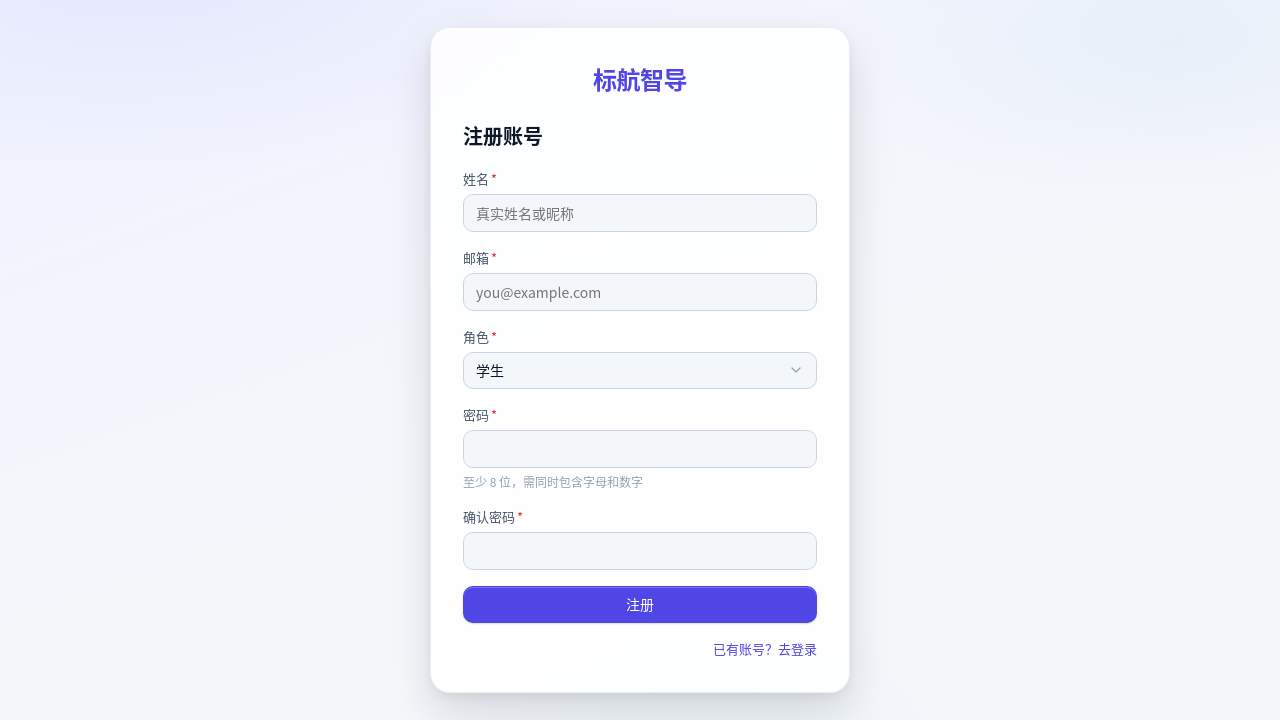
Test: RegisterPage › 密码不一致时不发起教师注册请求
Expected: the heading "注册账号" is shown, [463,121,543,150]
Click the dropdown named "角色" at {"x": 490, "y": 370}, box [463,352,817,389]
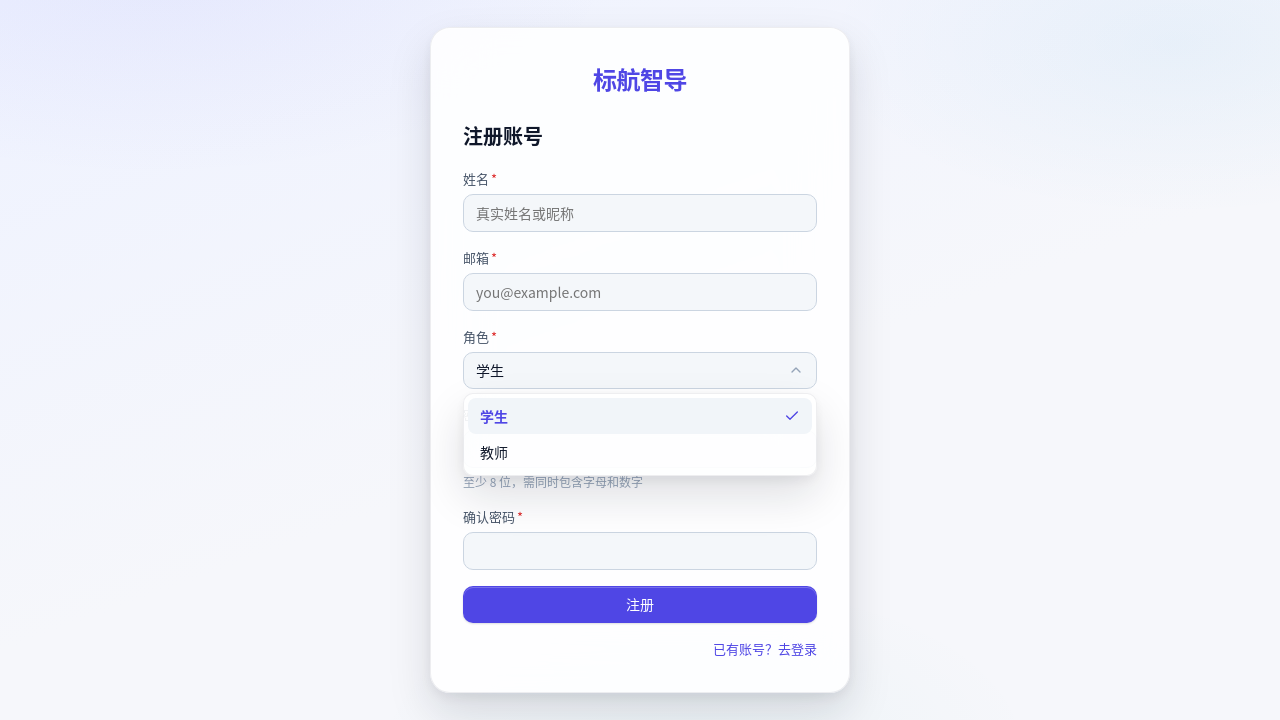
Click the option "教师" at {"x": 494, "y": 452}, box [468,434,812,471]
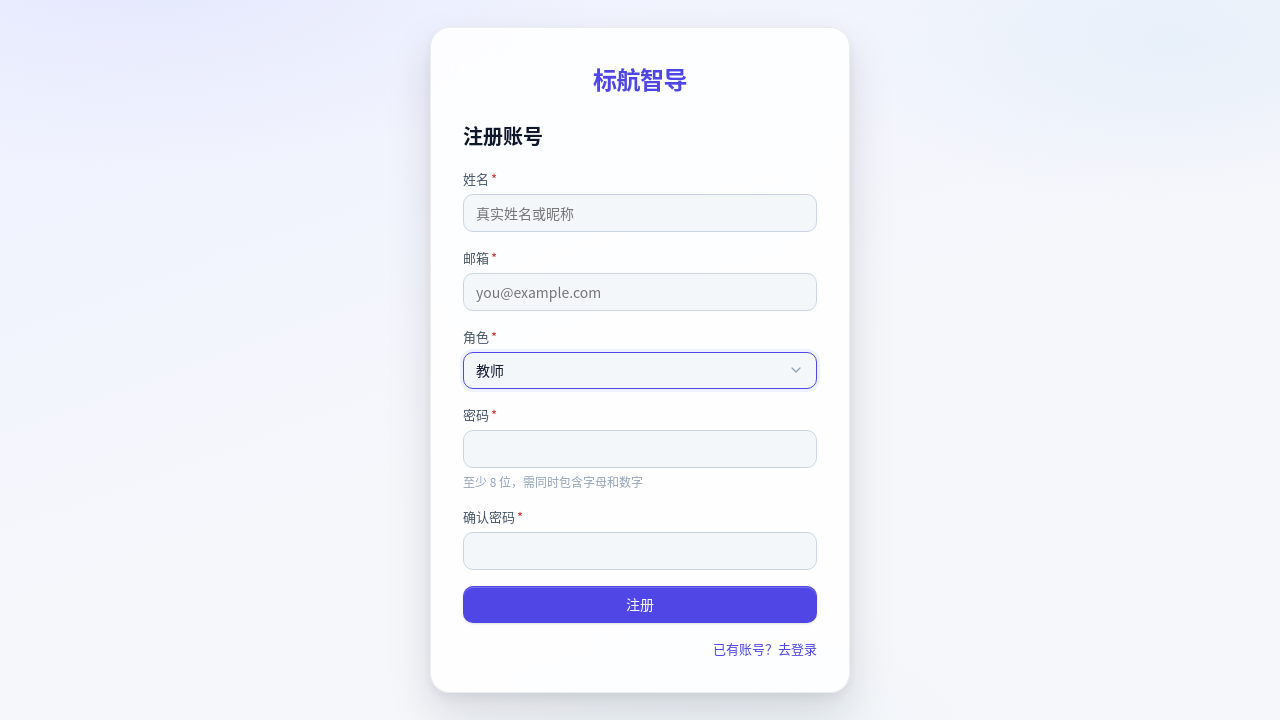
Type "王老师" into the field with placeholder "真实姓名或昵称" at {"x": 640, "y": 213}, box [463,194,817,232]
Type "teacher@example.com" into the field with placeholder "you@example.com" at {"x": 640, "y": 292}, box [463,273,817,311]
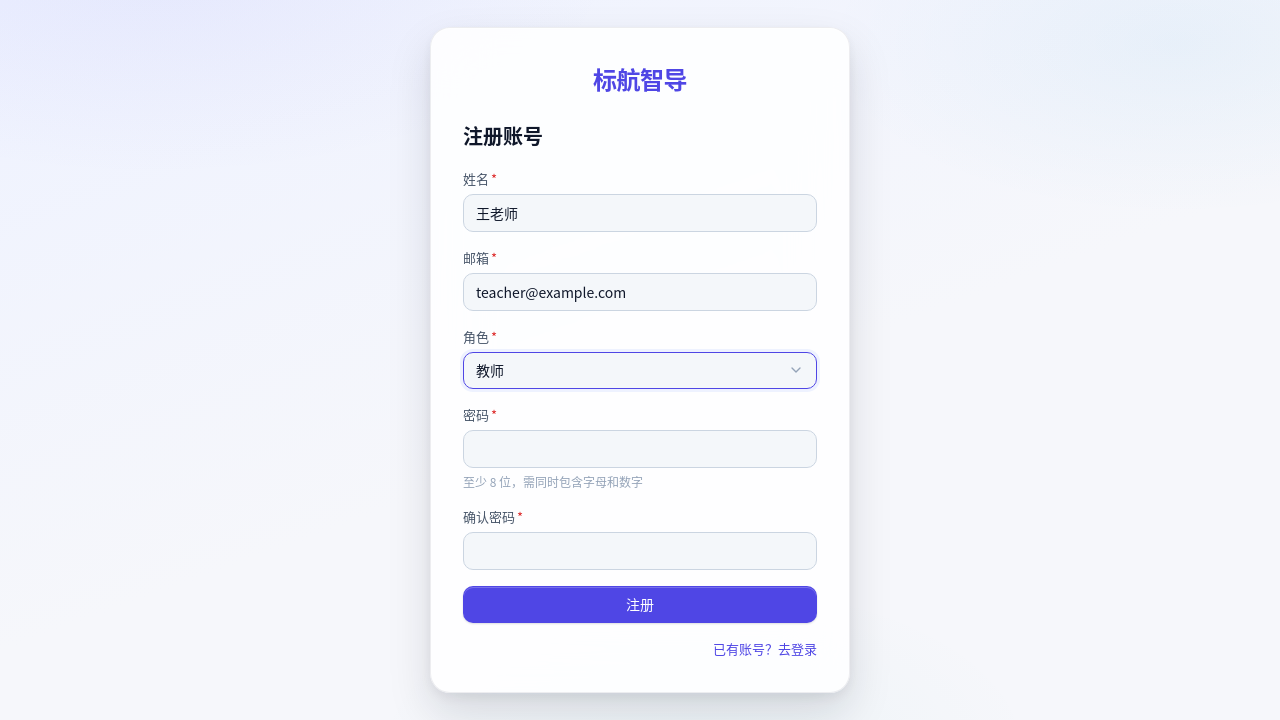
Type "Passw0rd1" into the password field labelled "密码*" at {"x": 640, "y": 449}, box [463,430,817,468]
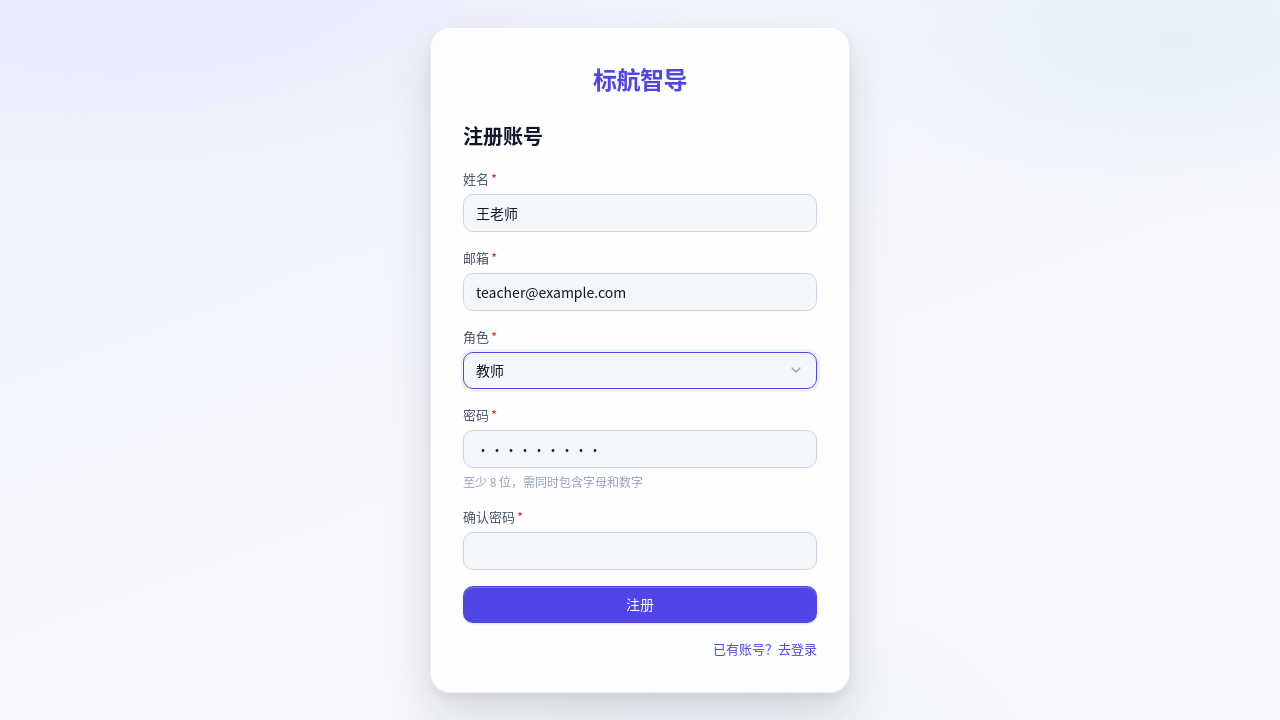
Type "Passw0rd2" into the password field labelled "确认密码*" at {"x": 640, "y": 551}, box [463,532,817,570]
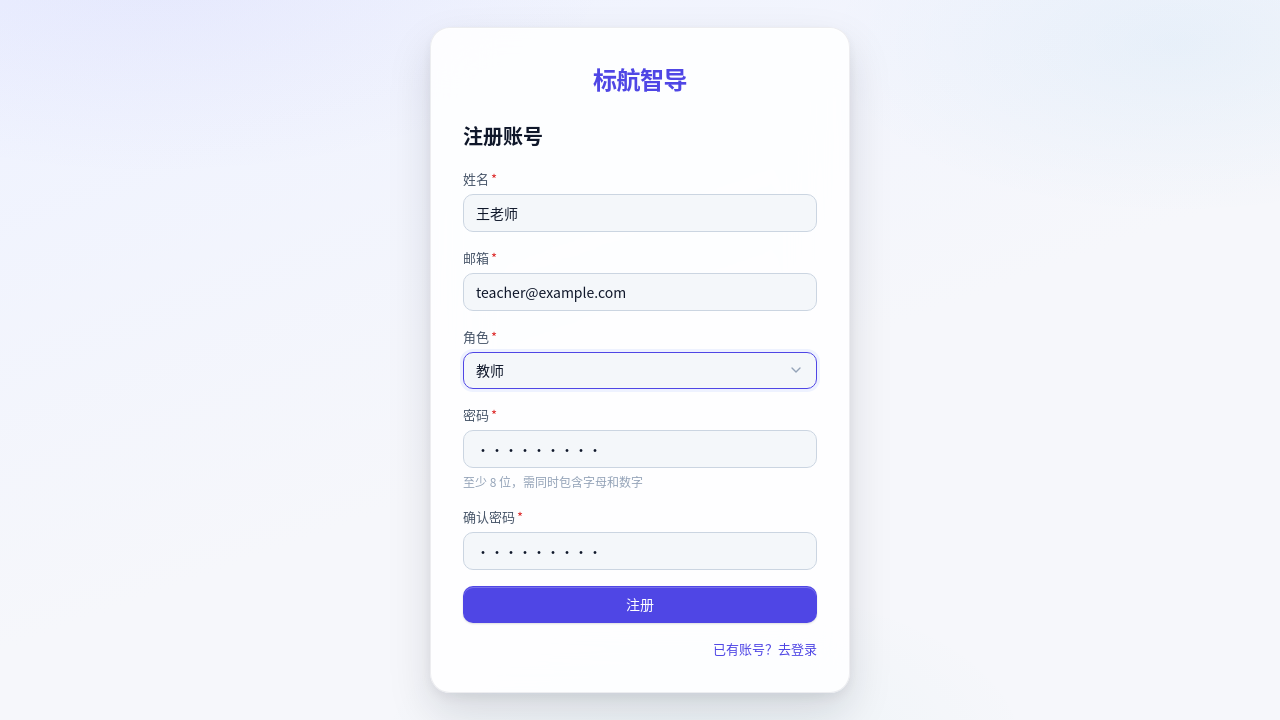
Click the button "注册" at {"x": 640, "y": 605}, box [463,586,817,624]
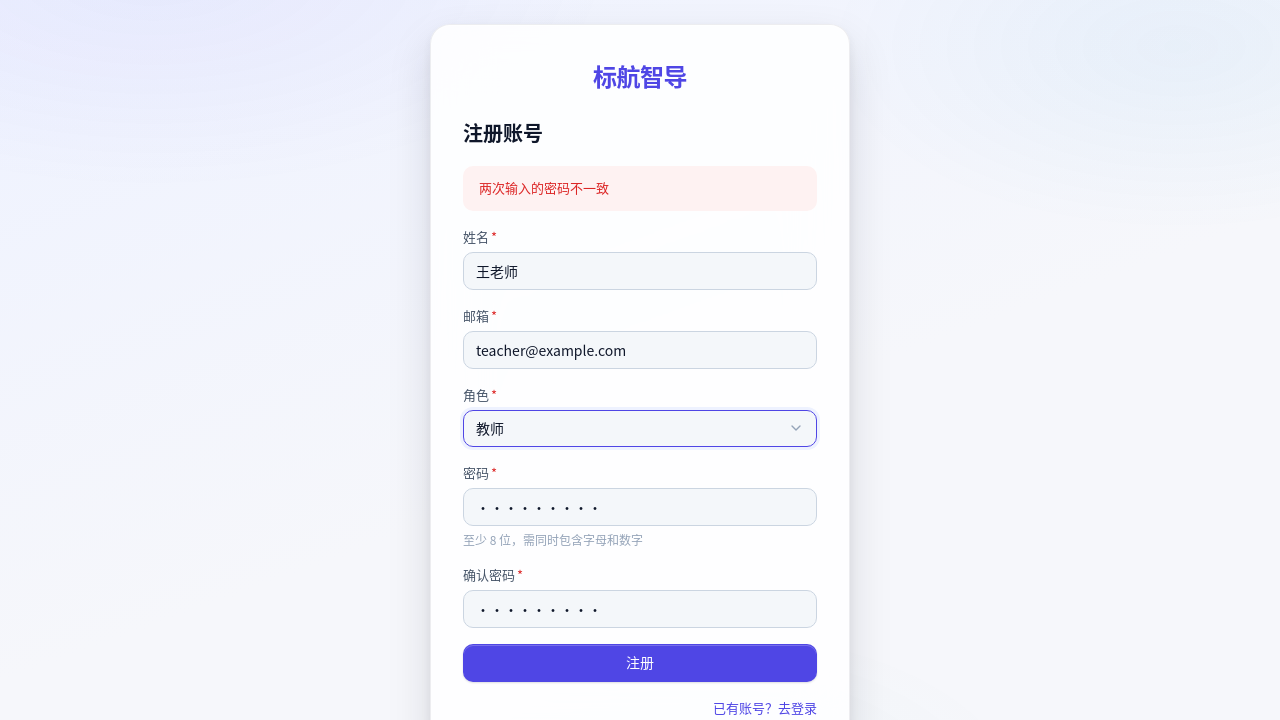
Expected: the text "两次输入的密码不一致" is shown, [463,166,817,211]
